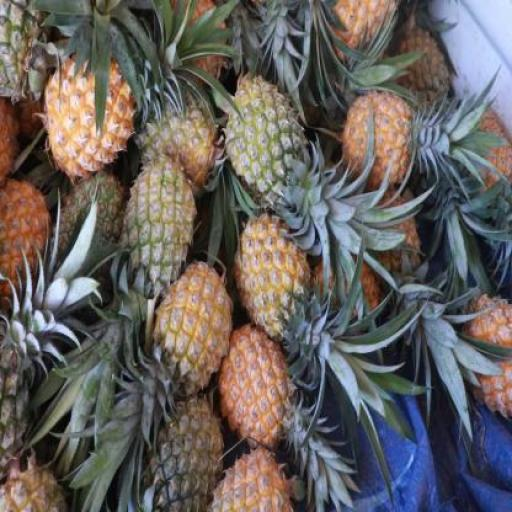------------------------------: (225, 78, 302, 206), (155, 258, 229, 389), (130, 157, 200, 291), (221, 321, 292, 448), (137, 98, 215, 185), (208, 443, 292, 512)
Pineapple - v8 v1: (45, 56, 131, 180), (236, 214, 310, 331), (343, 95, 414, 197)
